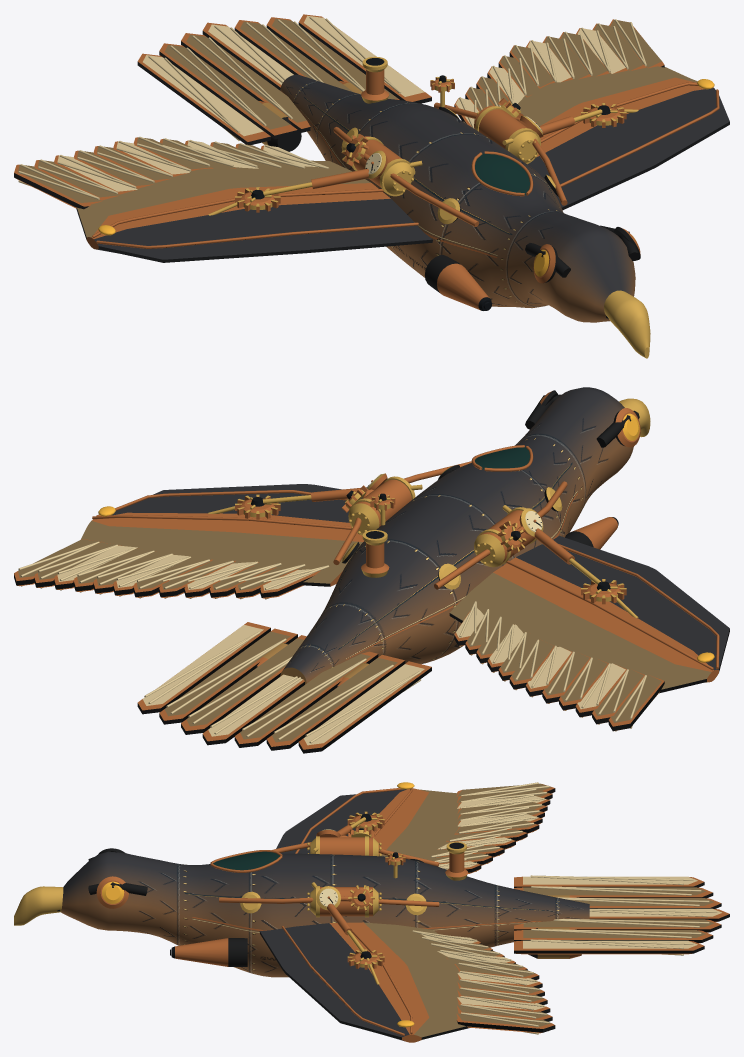
3 renders of one model, top to bottom at view 1: azimuth 30°, elevation 25°; view 2: azimuth 150°, elevation 25°; view 3: azimuth 270°, elevation 25°, orthographic. The views are drawn at different scales.
Visible parts, largest first — view 1: shrike_hull; view 2: shrike_hull; view 3: shrike_hull.
Part boxes in pixels (bbox=[...]): shrike_hull: bbox=[14, 14, 729, 358]; shrike_hull: bbox=[14, 387, 729, 753]; shrike_hull: bbox=[14, 782, 729, 1042].
Size of the model in its own units: 13.49 by 3.31 by 16.5.
Materials: 1 (1 with a texture image).
